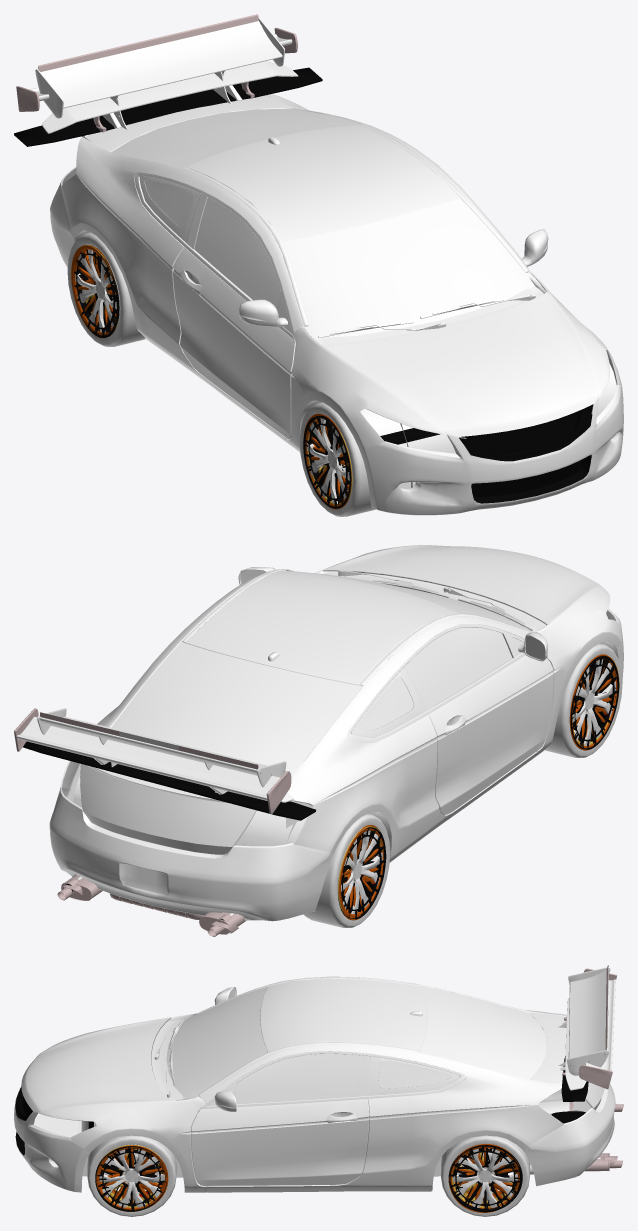
Rendered from sedan_modern.glb.
3 views of the same model, one above another, from view 1: azimuth 30°, elevation 25°; view 2: azimuth 150°, elevation 25°; view 3: azimuth 270°, elevation 25° (orthographic). The views are drawn at different scales.
Parts seen in each view (by area): view 1: Body, Glass, Spoiler_C, Grille, Spoiler_D, Spoiler_B, Tire_FR, Tire_BR, Wheel_A_BR, Wheel_A_FR, Spoiler_A, Wheel_C_FR (+3 smaller); view 2: Body, Glass, Spoiler_A, Spoiler_C, Spoiler_D, Tire_BR, Tire_FR, Wheel_A_FR, Wheel_A_BR, Exhaust_C, Wheel_C_FR, Wheel_C_BR (+4 smaller); view 3: Body, Glass, Spoiler_C, Tire_FL, Tire_BL, Wheel_A_FL, Wheel_A_BL, Wheel_C_BL, Spoiler_A, Wheel_C_FL, Wheel_E_FL, Wheel_B_BL (+9 smaller).
Part boxes in pixels (x1,y1,x2,y2): Body: [50, 94, 623, 515]; Glass: [111, 108, 532, 339]; Spoiler_C: [35, 14, 284, 129]; Grille: [380, 404, 593, 503]; Spoiler_D: [14, 67, 322, 146]; Spoiler_B: [42, 61, 298, 133]; Tire_FR: [299, 402, 375, 516]; Tire_BR: [67, 232, 145, 346]; Wheel_A_BR: [75, 244, 120, 338]; Wheel_A_FR: [307, 418, 349, 503]; Spoiler_A: [16, 27, 297, 128]; Wheel_C_FR: [305, 415, 351, 508]; Body: [49, 545, 623, 921]; Glass: [111, 571, 532, 774]; Spoiler_A: [14, 708, 291, 814]; Spoiler_C: [37, 708, 286, 792]; Spoiler_D: [23, 741, 315, 820]; Tire_BR: [303, 813, 390, 927]; Tire_FR: [544, 643, 622, 757]; Wheel_A_FR: [572, 659, 615, 745]; Wheel_A_BR: [337, 826, 385, 914]; Exhaust_C: [57, 875, 245, 936]; Wheel_C_FR: [572, 656, 619, 748]; Wheel_C_BR: [338, 827, 386, 919]; Body: [14, 976, 615, 1192]; Glass: [166, 985, 546, 1103]; Spoiler_C: [558, 965, 610, 1075]; Tire_FL: [87, 1135, 176, 1216]; Tire_BL: [441, 1135, 529, 1216]; Wheel_A_FL: [95, 1144, 168, 1207]; Wheel_A_BL: [452, 1148, 517, 1207]; Wheel_C_BL: [448, 1145, 521, 1212]; Spoiler_A: [560, 968, 616, 1089]; Wheel_C_FL: [97, 1146, 166, 1210]; Wheel_E_FL: [99, 1147, 168, 1209]; Wheel_B_BL: [450, 1145, 522, 1211].
Size of what is drawn, in the model's own units: 2.18 by 1.45 by 4.94.
19 materials, 1 textured.
